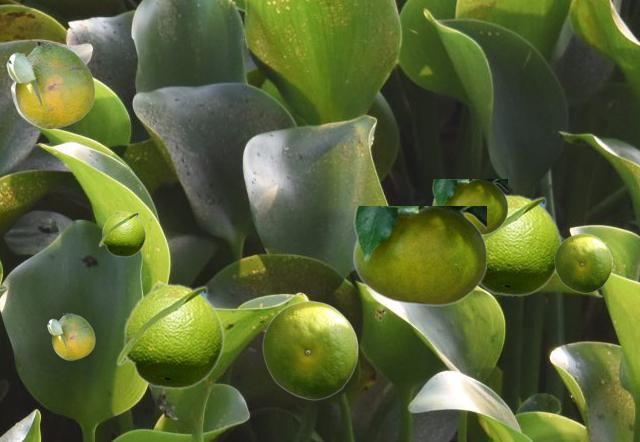dalandan: (353, 206, 485, 305), (115, 281, 224, 389), (262, 300, 357, 399), (480, 192, 562, 296), (6, 42, 94, 128), (432, 179, 506, 234), (554, 233, 611, 292), (98, 210, 145, 256), (47, 313, 94, 359)
